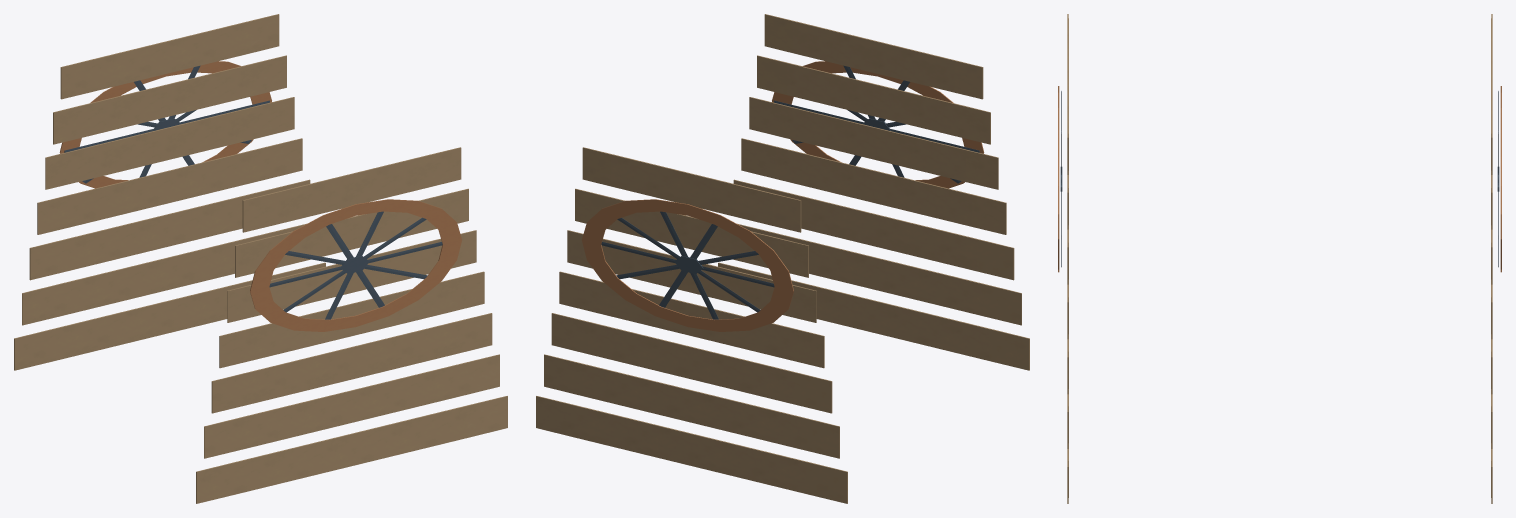
Rendered from siltwake-strata-wheelhouse-1.glb.
The picture shows the model from 3 angles, left to right: view 1: azimuth 30°, elevation 25°; view 2: azimuth 150°, elevation 25°; view 3: azimuth 270°, elevation 25°; orthographic projection. The views are drawn at different scales.
Visible parts, largest first — view 1: siltwake-strata-wheelhouse_LOD1; view 2: siltwake-strata-wheelhouse_LOD1; view 3: siltwake-strata-wheelhouse_LOD1.
Part boxes in pixels (x1,y1,x2,y2): siltwake-strata-wheelhouse_LOD1: (14,14,507,503); siltwake-strata-wheelhouse_LOD1: (536,14,1029,503); siltwake-strata-wheelhouse_LOD1: (1058,14,1501,503).
Size of the model in its own units: 0.94 by 0.842 by 0.9967.
Materials: 3 (3 with a texture image).
